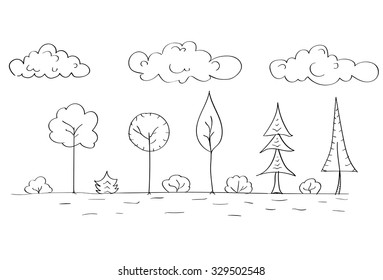cloud: (127, 39, 244, 84), (268, 43, 380, 86), (8, 43, 91, 79)
tree: (46, 101, 100, 193), (256, 100, 297, 195), (321, 94, 359, 194), (128, 112, 170, 193), (194, 89, 225, 192)
